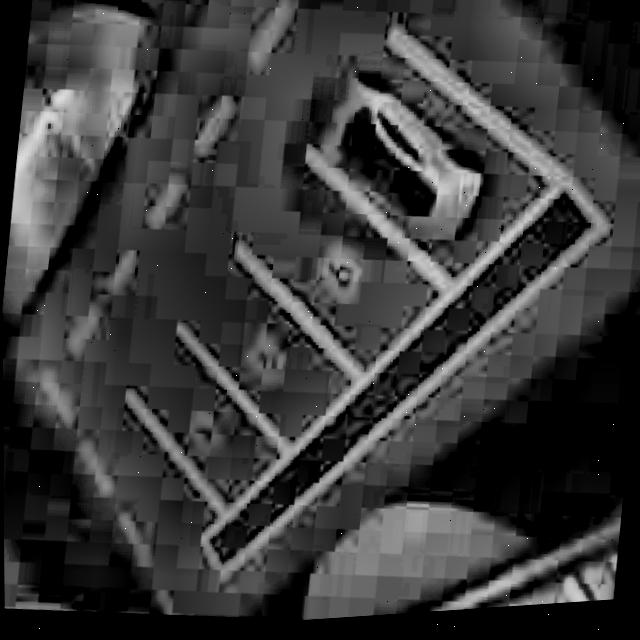car: (294, 69, 497, 261)
